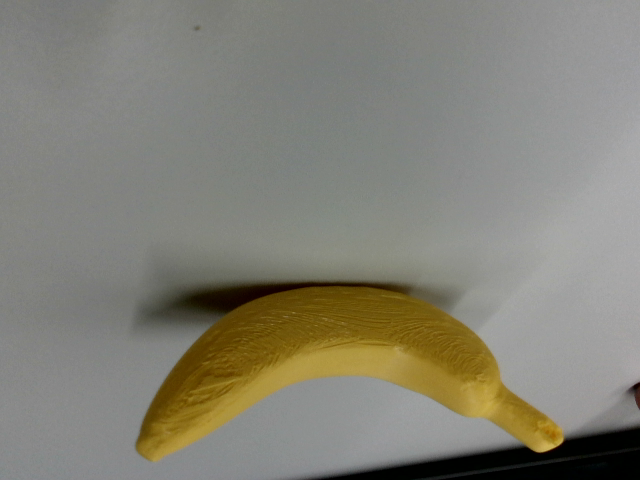banana: (133, 281, 562, 460)
